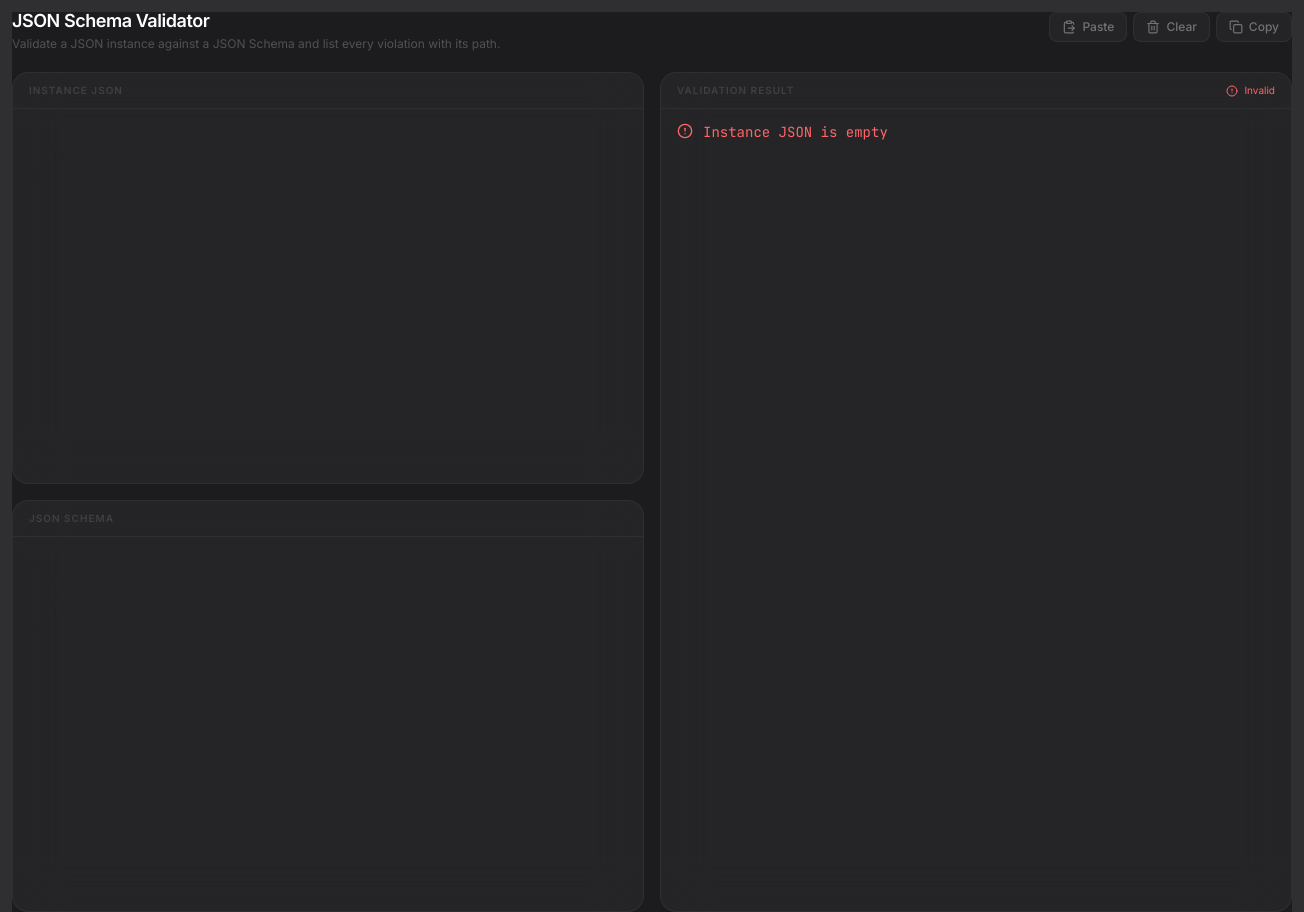
Test: JsonSchemaValidatorTool › pastes text into the instance field when Paste button is clicked
Click the button titled "Paste from clipboard": (1088, 27) [1049,12,1127,42]
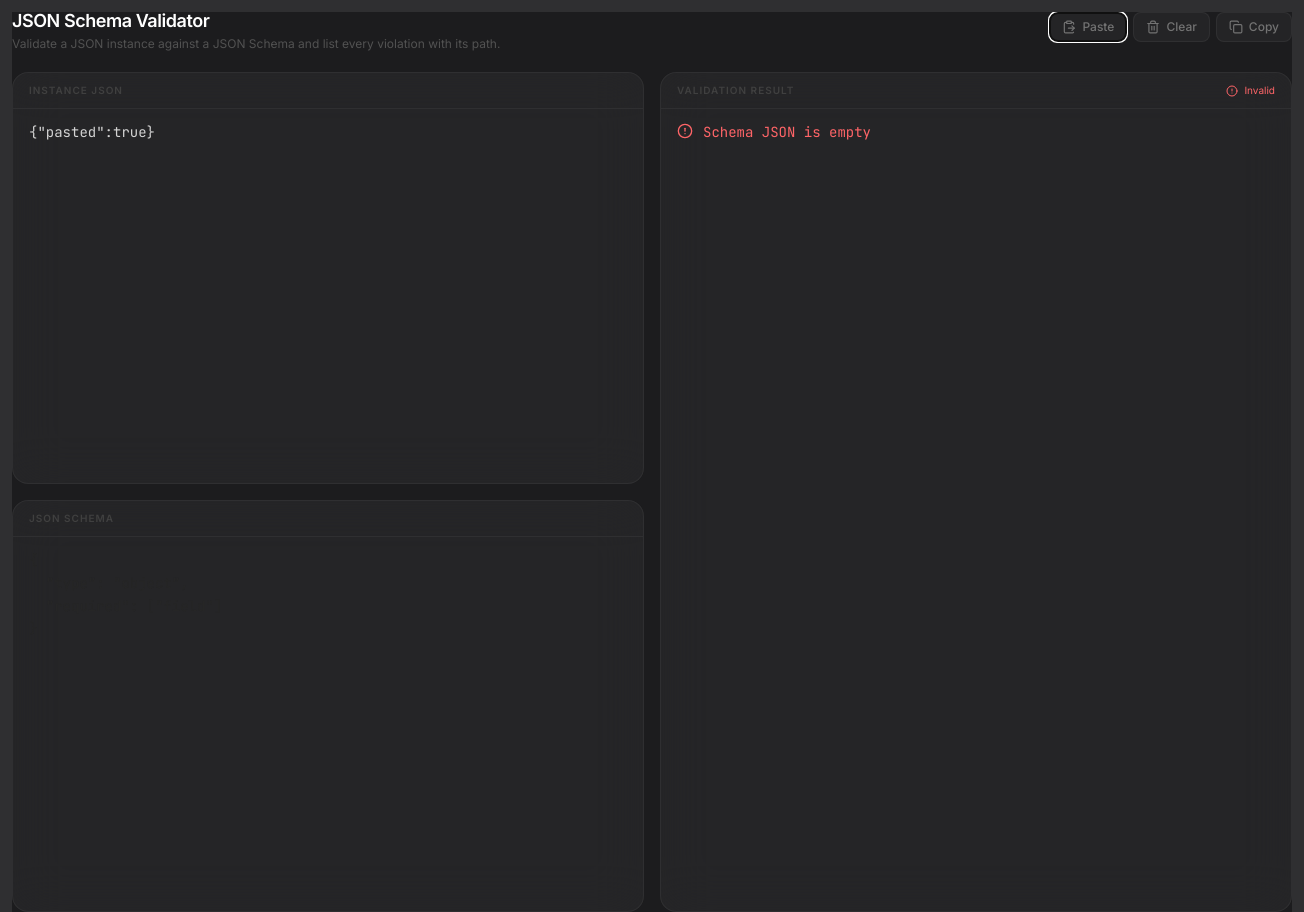
Result: the text box with placeholder "{ \"name\": \"Alice\" }" holds "{\"pasted\":true}" at [13,109,643,483]
